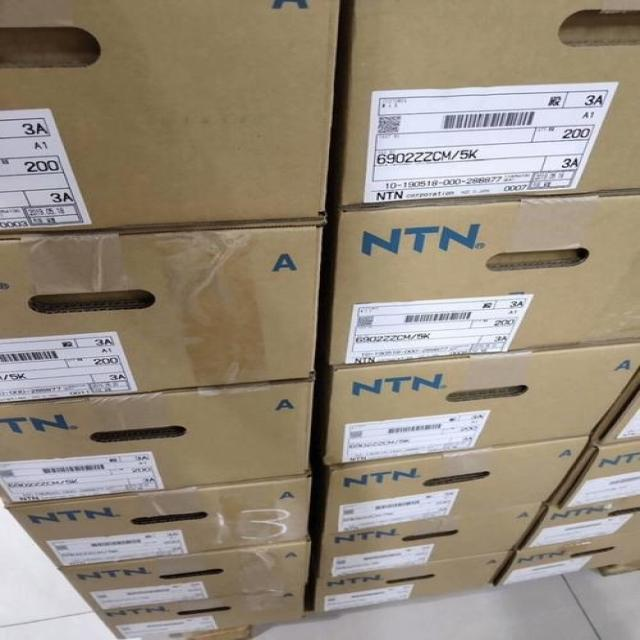box: (0, 1, 339, 233), (339, 0, 640, 205), (0, 219, 325, 402), (329, 189, 640, 364), (0, 379, 314, 508), (323, 344, 640, 466), (6, 475, 312, 568), (323, 437, 590, 536), (58, 533, 311, 613), (317, 504, 543, 579), (314, 552, 509, 617), (97, 587, 305, 640), (492, 532, 640, 588), (515, 496, 639, 551), (549, 439, 639, 510), (591, 367, 640, 445)
